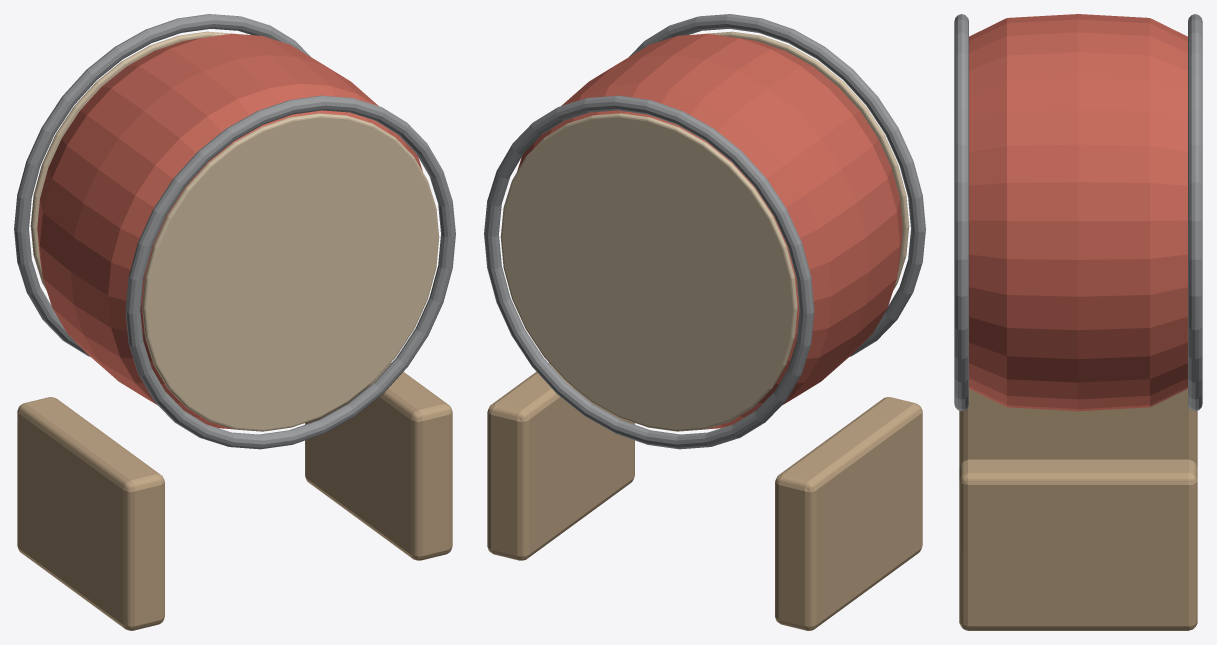
3 renders of one model, left to right at view 1: azimuth 30°, elevation 25°; view 2: azimuth 150°, elevation 25°; view 3: azimuth 270°, elevation 25°, orthographic. The views are drawn at different scales.
Visible parts, largest first — view 1: drum_3, drum_0, drum_1, drum_2; view 2: drum_3, drum_0, drum_1, drum_2; view 3: drum_1, drum_0, drum_2.
Boxes of the visible parts, x1,y1,x2,y2 form: drum_3: [30, 31, 439, 431]; drum_0: [17, 363, 452, 630]; drum_1: [37, 33, 422, 429]; drum_2: [14, 14, 455, 449]; drum_3: [500, 31, 909, 431]; drum_0: [487, 363, 922, 630]; drum_1: [517, 33, 902, 429]; drum_2: [484, 14, 925, 449]; drum_1: [969, 14, 1187, 411]; drum_0: [959, 389, 1197, 630]; drum_2: [954, 14, 1202, 411].
Size of the model in its own units: 0.8 by 1.15 by 0.5.
